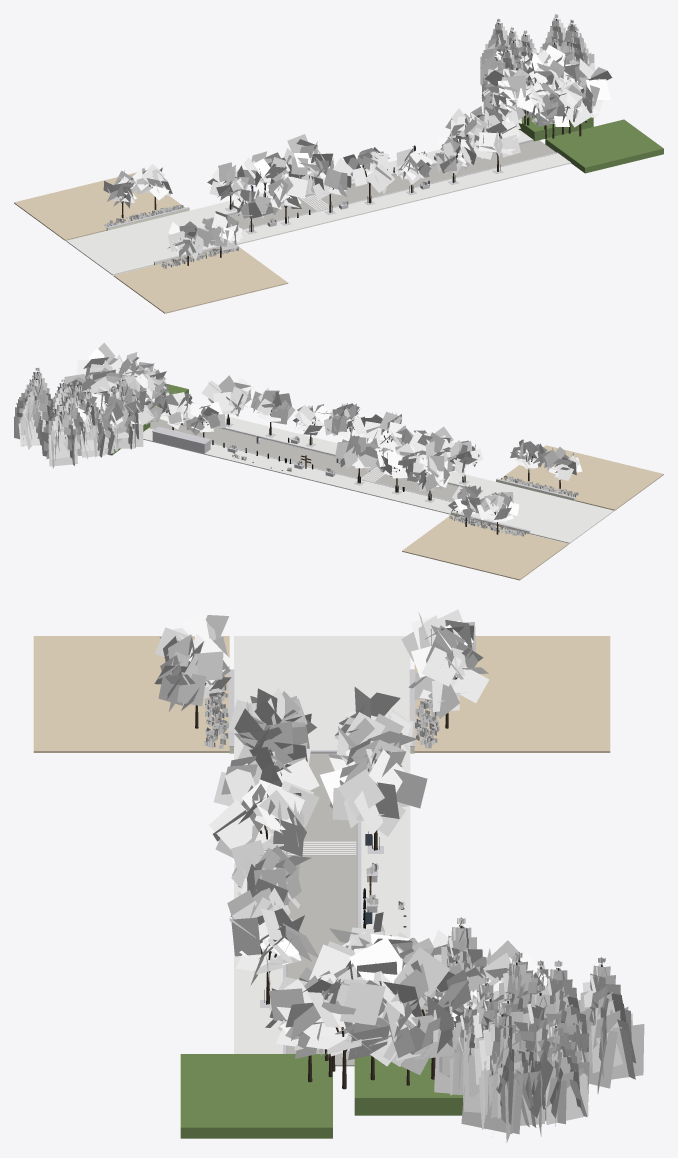
File: social-cafe-street.glb
3 renders of one model, top to bottom at view 1: azimuth 30°, elevation 25°; view 2: azimuth 150°, elevation 25°; view 3: azimuth 270°, elevation 25°, orthographic. The views are drawn at different scales.
Visible parts, largest first — view 1: mesh_cebc8f3b53ee_486, mesh_cebc8f3b53ee_477, mesh_cebc8f3b53ee_471, mesh_cebc8f3b53ee_473, mesh_cebc8f3b53ee_495, mesh_cebc8f3b53ee_467, mesh_679ef8371029_553, mesh_679ef8371029_531, mesh_679ef8371029_491, mesh_679ef8371029_520, mesh_679ef8371029_522, mesh_679ef8371029_542 (+19 smaller); view 2: mesh_cebc8f3b53ee_477, mesh_cebc8f3b53ee_486, mesh_679ef8371029_558, mesh_cebc8f3b53ee_473, mesh_cebc8f3b53ee_467, mesh_cebc8f3b53ee_469, mesh_679ef8371029_556, mesh_cebc8f3b53ee_471, mesh_679ef8371029_531, mesh_679ef8371029_557, mesh_679ef8371029_491, mesh_679ef8371029_484 (+20 smaller); view 3: mesh_cebc8f3b53ee_477, mesh_cebc8f3b53ee_486, mesh_679ef8371029_556, mesh_cebc8f3b53ee_473, mesh_cebc8f3b53ee_495, mesh_679ef8371029_558, mesh_cebc8f3b53ee_467, mesh_679ef8371029_553, mesh_679ef8371029_542, mesh_679ef8371029_548, mesh_679ef8371029_484, mesh_cebc8f3b53ee_494 (+21 smaller).
Part boxes in pixels (<box>): mesh_cebc8f3b53ee_486: <box>113,246,288,313</box>; mesh_cebc8f3b53ee_477: <box>14,172,185,240</box>; mesh_cebc8f3b53ee_471: <box>237,153,570,244</box>; mesh_cebc8f3b53ee_473: <box>66,210,216,275</box>; mesh_cebc8f3b53ee_495: <box>545,119,663,173</box>; mesh_cebc8f3b53ee_467: <box>208,140,555,228</box>; mesh_679ef8371029_553: <box>525,58,612,127</box>; mesh_679ef8371029_531: <box>449,112,520,159</box>; mesh_679ef8371029_491: <box>184,165,273,247</box>; mesh_679ef8371029_520: <box>263,154,352,199</box>; mesh_679ef8371029_522: <box>288,145,421,184</box>; mesh_679ef8371029_542: <box>343,147,395,193</box>; mesh_cebc8f3b53ee_477: <box>402,515,568,580</box>; mesh_cebc8f3b53ee_486: <box>500,445,663,510</box>; mesh_679ef8371029_558: <box>15,374,134,468</box>; mesh_cebc8f3b53ee_473: <box>455,482,613,543</box>; mesh_cebc8f3b53ee_467: <box>150,415,462,501</box>; mesh_cebc8f3b53ee_469: <box>143,428,456,514</box>; mesh_679ef8371029_556: <box>14,367,143,455</box>; mesh_cebc8f3b53ee_471: <box>164,411,495,490</box>; mesh_679ef8371029_531: <box>185,375,253,427</box>; mesh_679ef8371029_557: <box>52,379,116,459</box>; mesh_679ef8371029_491: <box>423,440,556,487</box>; mesh_679ef8371029_484: <box>407,456,481,519</box>; mesh_cebc8f3b53ee_477: <box>414,636,610,752</box>; mesh_cebc8f3b53ee_486: <box>33,636,229,752</box>; mesh_679ef8371029_556: <box>434,917,590,1142</box>; mesh_cebc8f3b53ee_473: <box>234,636,410,750</box>; mesh_cebc8f3b53ee_495: <box>180,1054,332,1138</box>; mesh_679ef8371029_558: <box>471,956,644,1136</box>; mesh_cebc8f3b53ee_467: <box>287,753,356,1066</box>; mesh_679ef8371029_553: <box>265,975,395,1060</box>; mesh_679ef8371029_542: <box>209,779,319,857</box>; mesh_679ef8371029_548: <box>349,937,464,1074</box>; mesh_679ef8371029_484: <box>357,641,489,752</box>; mesh_cebc8f3b53ee_494: <box>354,1055,462,1115</box>.
Size of the model in its own units: 112 by 14.62 by 56.12.
